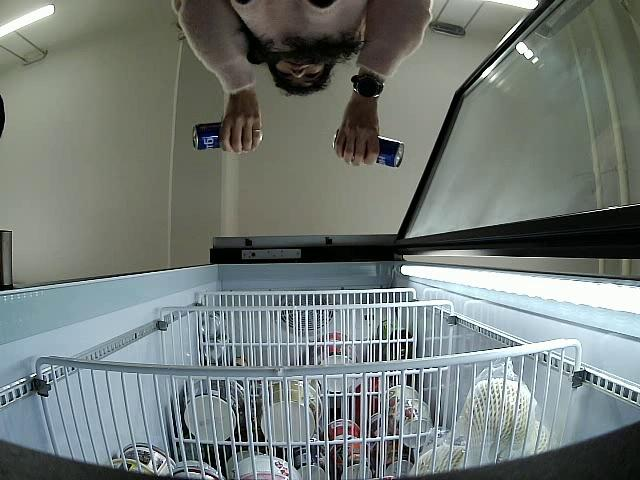00_hand: (333, 105, 381, 166), (220, 99, 261, 155)
16_hot6: (333, 127, 406, 169), (193, 121, 226, 151)
